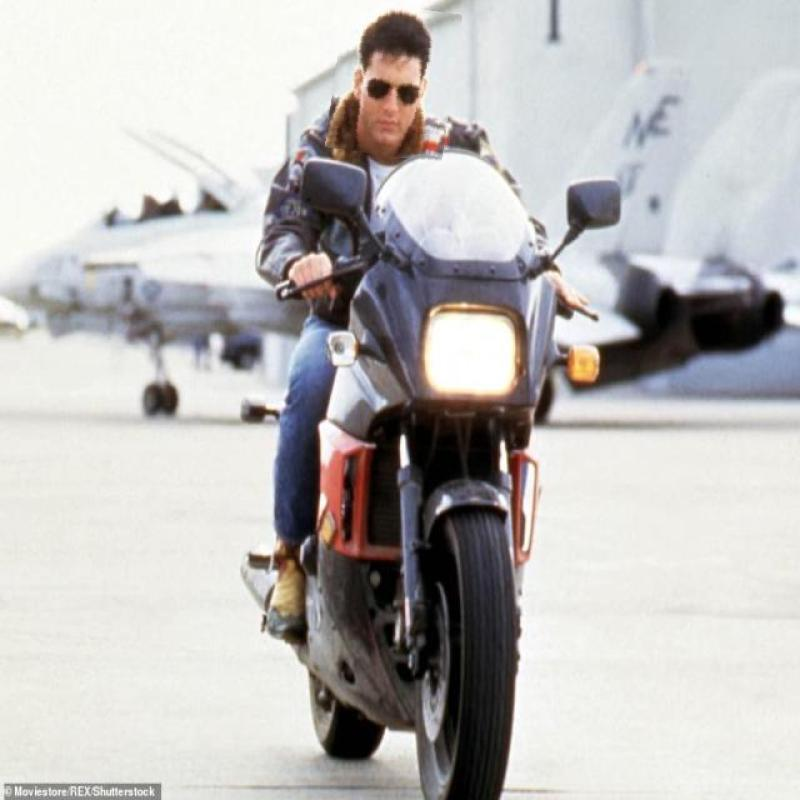nohelmet: (330, 2, 458, 159)
